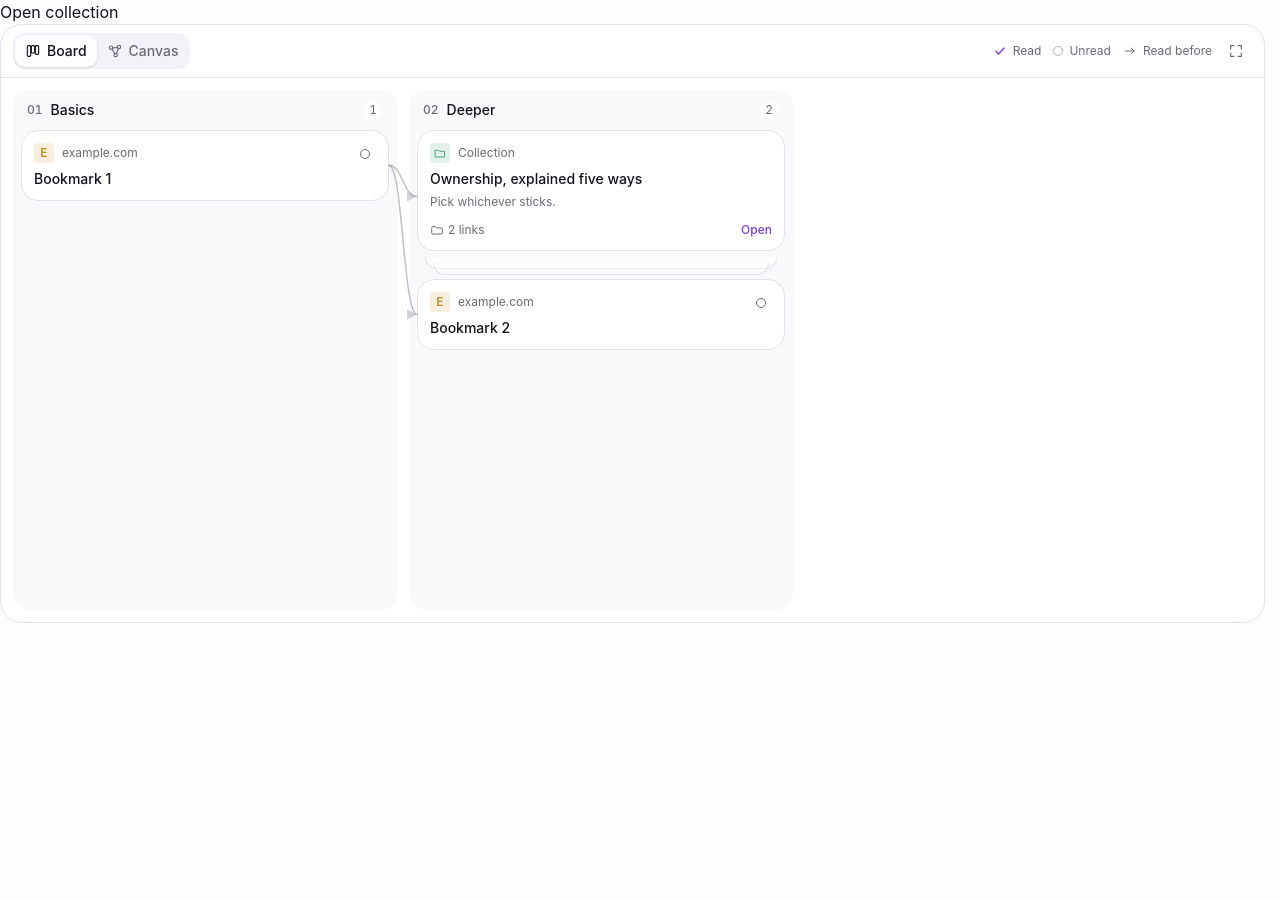
CollectionSheet › opens a graph collection node with the graph as context
Click the button that starts with "Collection": point(486, 152) [417, 130, 785, 251]
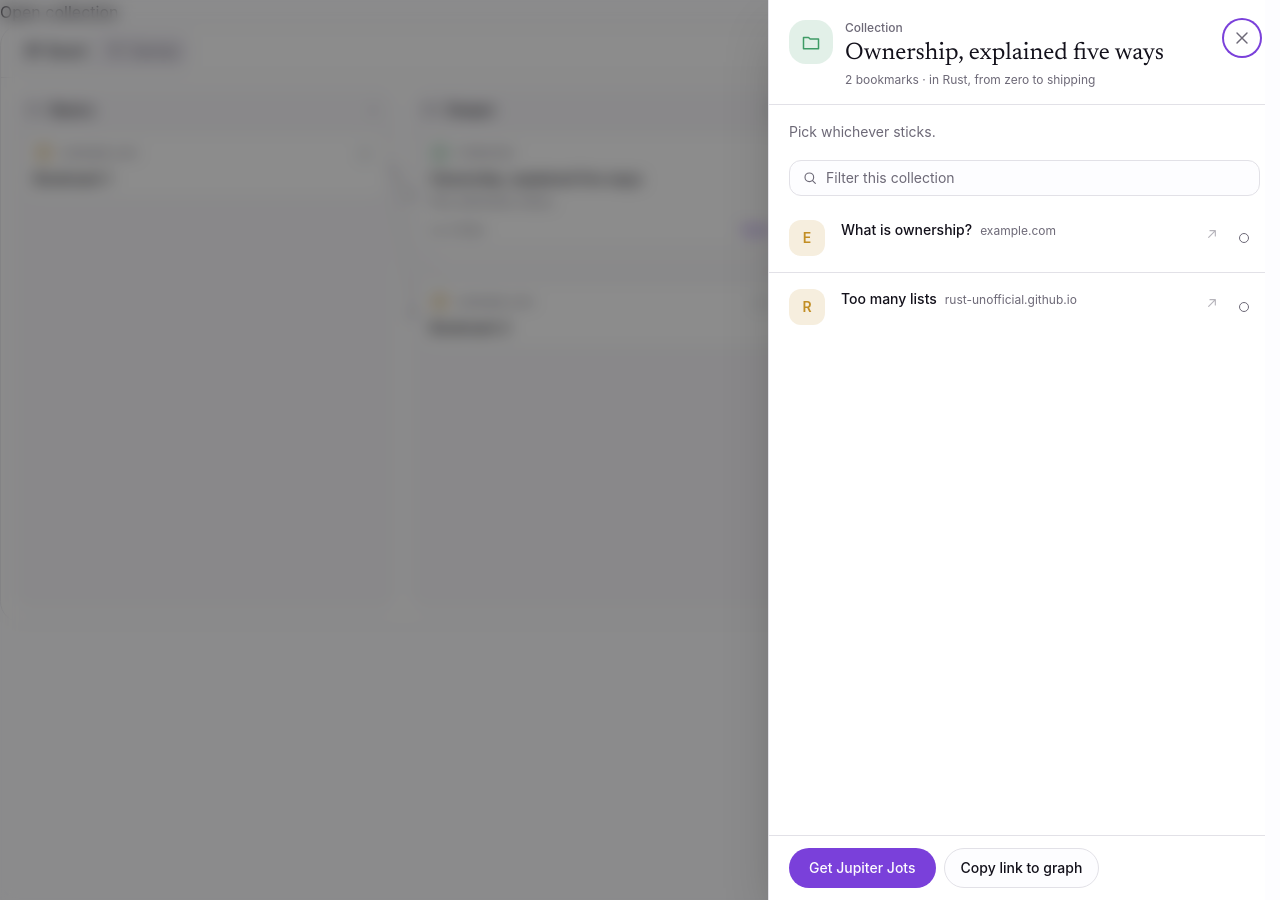
expect the heading "Ownership, explained five ways" is shown: met, box [845, 38, 1212, 68]
expect the dialog shows "in Rust, from zero to shipping": met, box [845, 72, 1095, 87]
